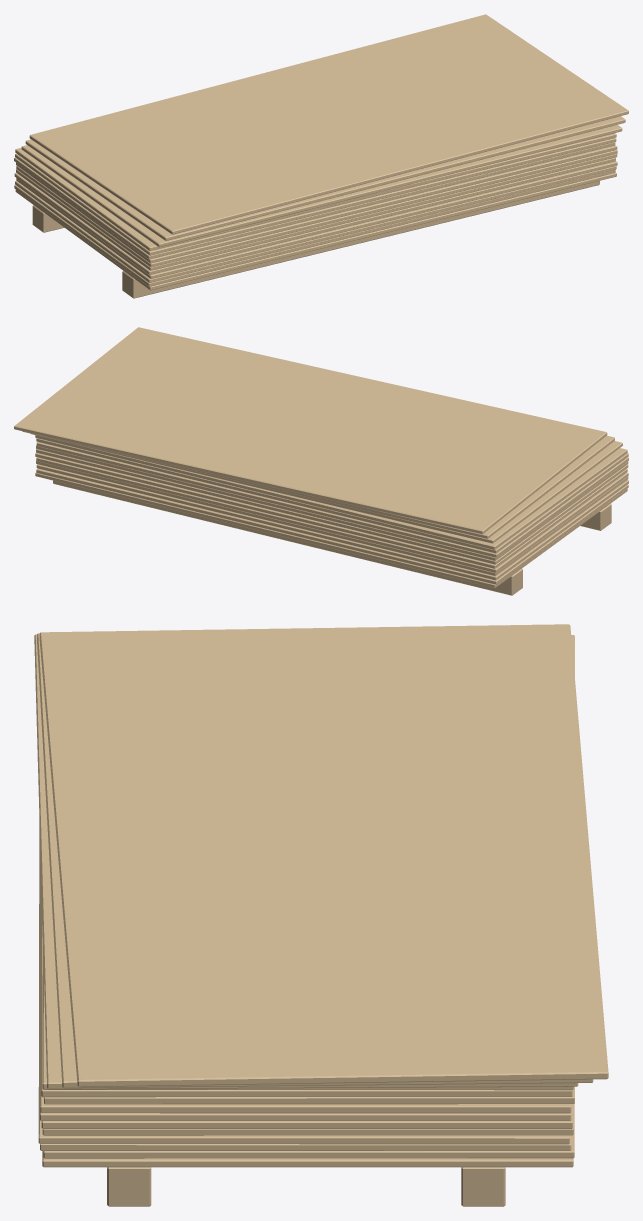
3 views of the same model, one above another, from view 1: azimuth 30°, elevation 25°; view 2: azimuth 150°, elevation 25°; view 3: azimuth 270°, elevation 25° (orthographic). The views are drawn at different scales.
Visible parts, largest first — view 1: osb-sheet-stack; view 2: osb-sheet-stack; view 3: osb-sheet-stack.
Part boxes in pixels (x1,y1,x2,y2): osb-sheet-stack: (14, 14, 628, 298); osb-sheet-stack: (14, 327, 628, 595); osb-sheet-stack: (34, 624, 608, 1206).
Bounding box in the file's own units: 2.52 × 0.3681 × 1.3.
